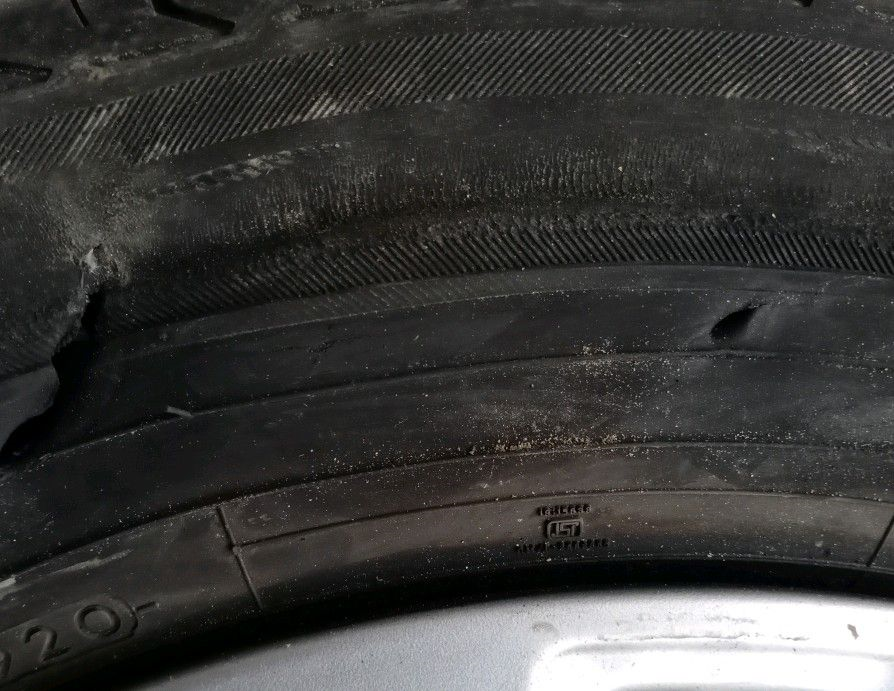cut: (0, 283, 109, 467), (715, 302, 769, 336)
